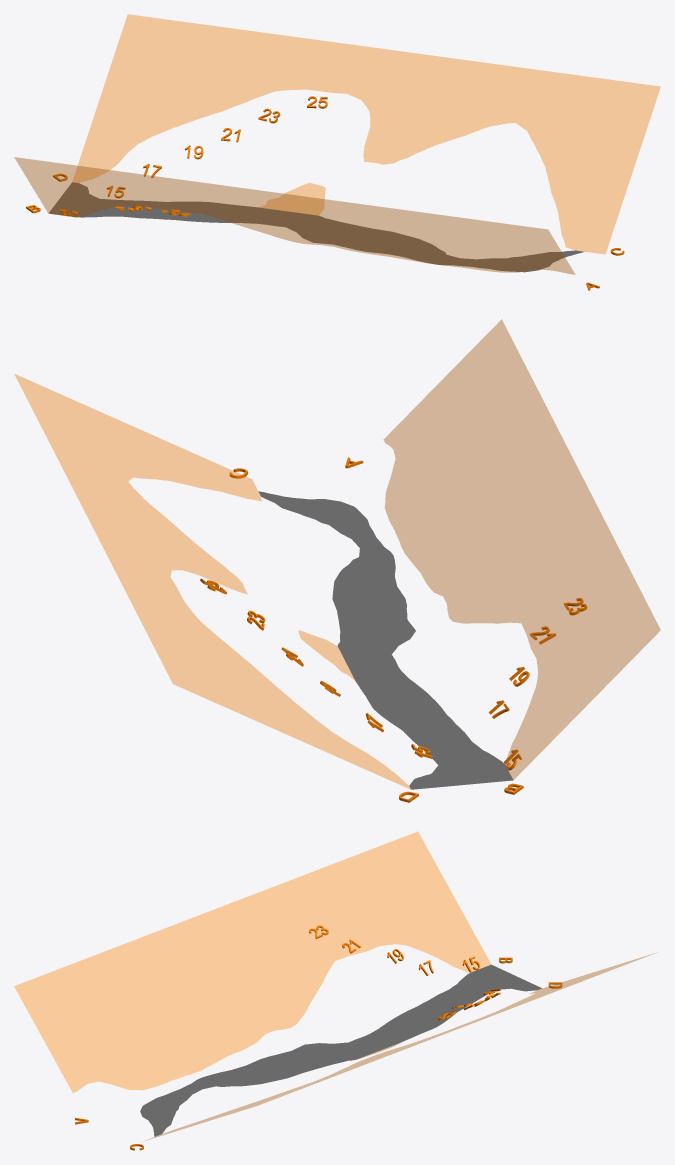
File: curva16b.gltf
3 views of the same model, one above another, from view 1: azimuth 30°, elevation 25°; view 2: azimuth 150°, elevation 25°; view 3: azimuth 270°, elevation 25° (orthographic). The views are drawn at different scales.
Bounding box in the file's own units: 1835 × 316 × 1874.
